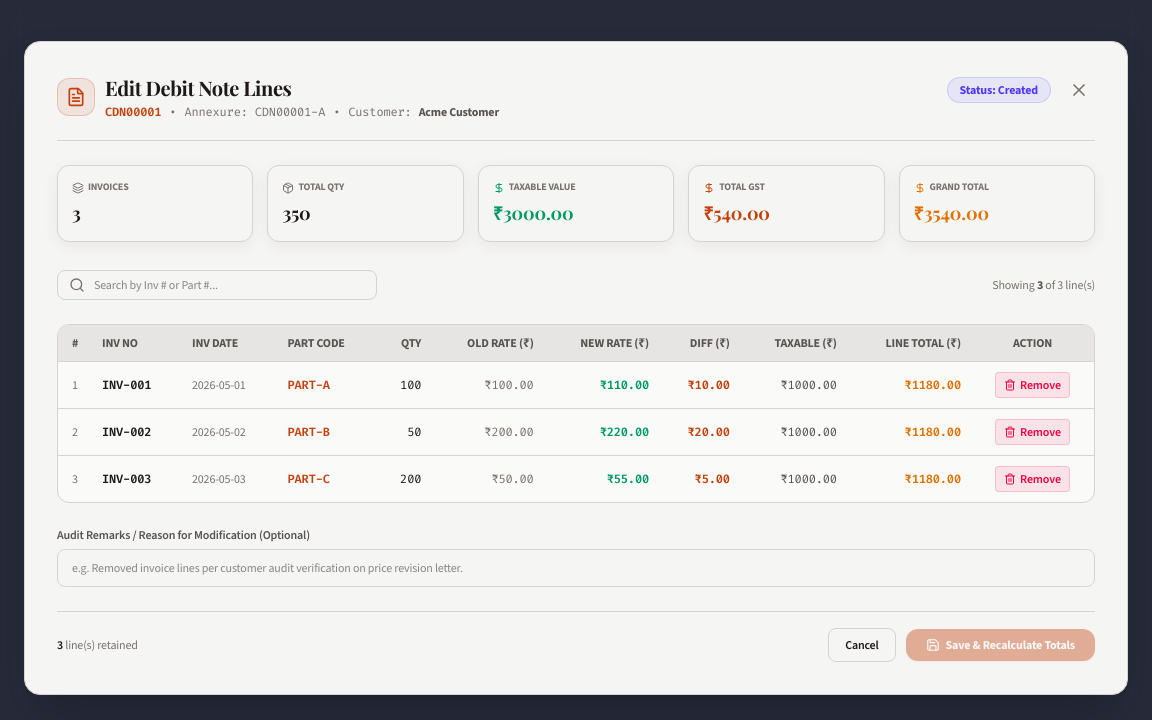
Test: EditDebitNoteModal Component › 2. Remove and restore works locally with visual indicators and Restore All
Note: Click remove on the second item (INV-002)
Click the button "Remove" in the row of "INV-002".
click(1032, 432)  # box left=995, top=419, right=1070, bottom=445
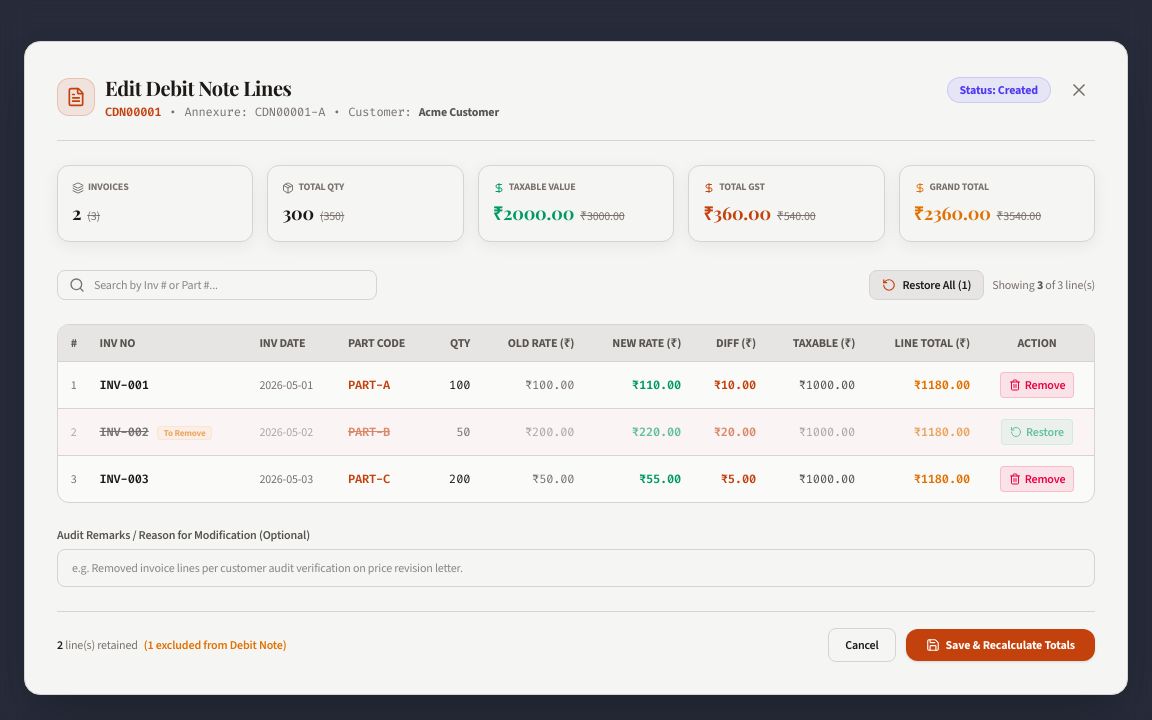
Result: the text "To Remove" is shown at left=157, top=426, right=212, bottom=440
Result: the button "Restore All (1)" is shown at left=869, top=270, right=984, bottom=300
Result: the button titled "Restore this invoice line" is shown
Note: Click Restore on row to undo exclusion
Click the button titled "Restore this invoice line".
click(1037, 432)  # box left=1001, top=419, right=1073, bottom=445
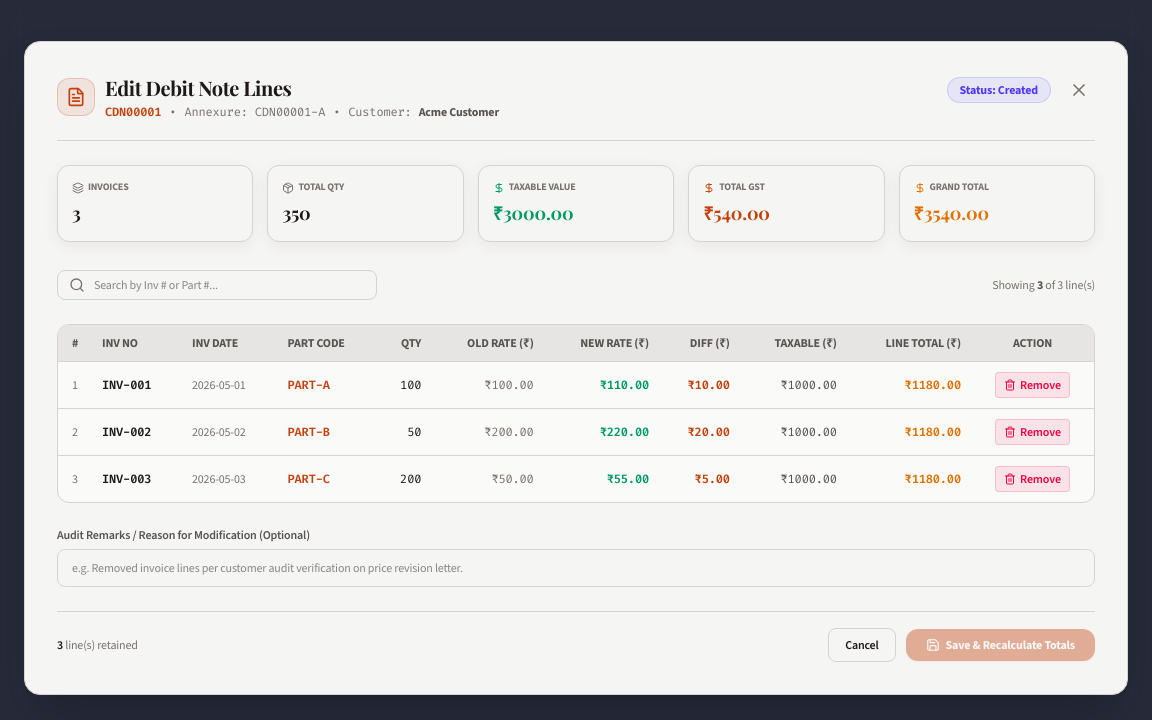
Result: the text "To Remove" is gone
Note: Exclude again and test Restore All button
Click the button "Remove" in the row of "INV-001".
click(1032, 385)  # box left=995, top=372, right=1070, bottom=398
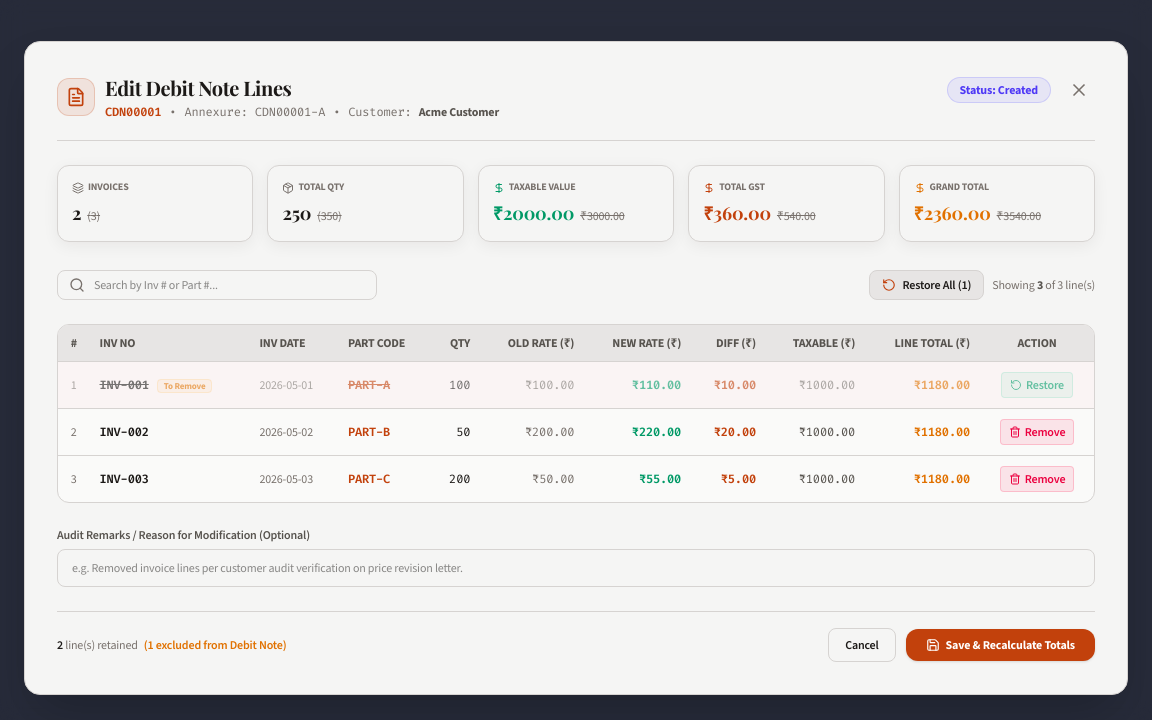
Result: the text "To Remove" is shown at left=157, top=379, right=212, bottom=393
Click the button "Restore All (1)".
click(927, 285)  # box left=869, top=270, right=984, bottom=300
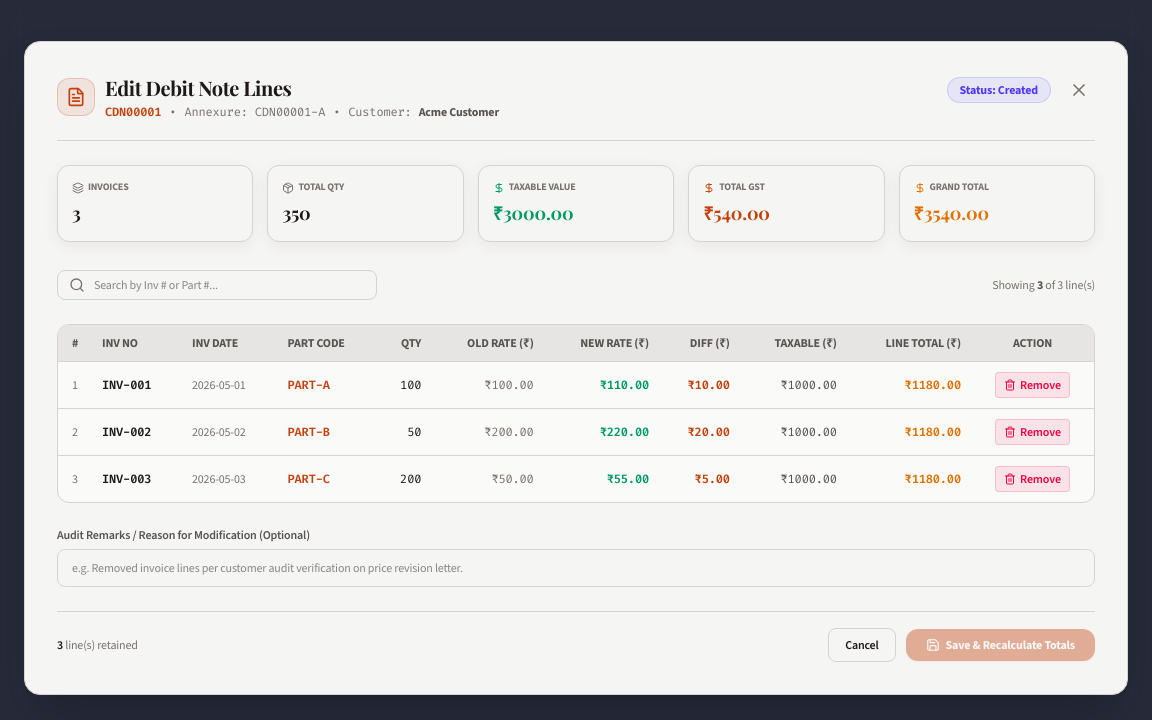
Result: the text "To Remove" is gone
